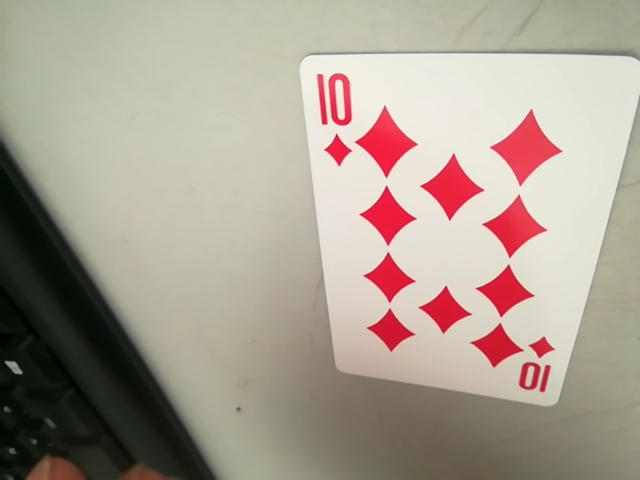fk 10: (309, 62, 364, 132), (509, 339, 560, 402)
